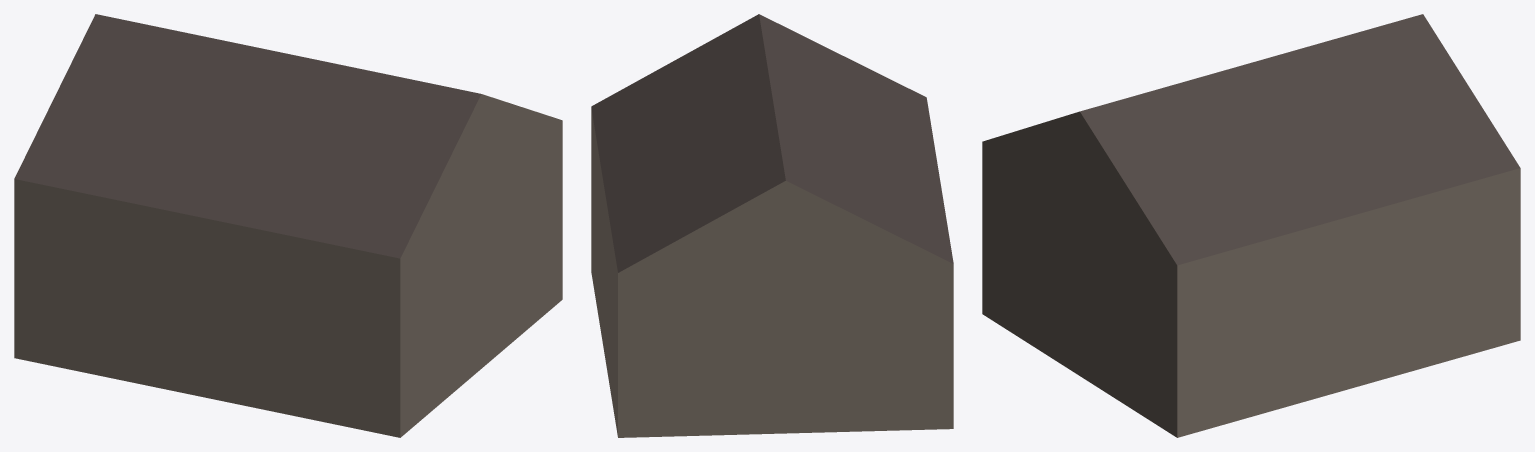
3 views of the same model, side by side, from view 1: azimuth 30°, elevation 25°; view 2: azimuth 150°, elevation 25°; view 3: azimuth 270°, elevation 25° (orthographic). The views are drawn at different scales.
Visible parts, largest first — view 1: HP-w1319816432; view 2: HP-w1319816432; view 3: HP-w1319816432.
Boxes of the visible parts, box(x1,y1,x2,y2) form: HP-w1319816432: box(14, 14, 562, 437); HP-w1319816432: box(591, 14, 953, 437); HP-w1319816432: box(982, 14, 1520, 437).
Size of the model in its own units: 16.51 by 9.2 by 16.96.
